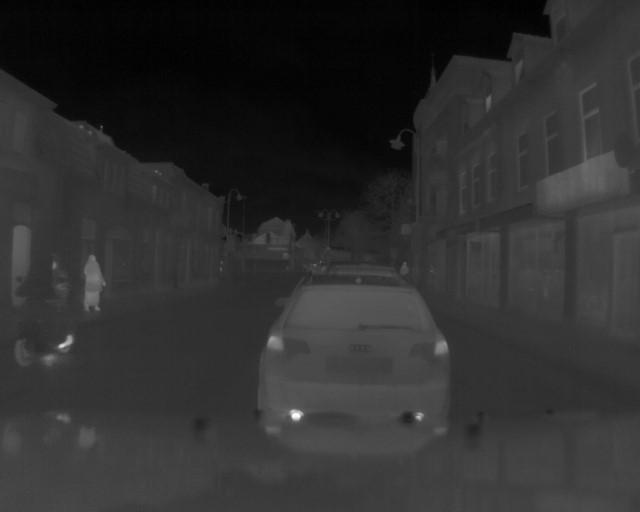car: (244, 272, 456, 423)
person: (18, 251, 77, 368), (81, 244, 109, 319)
